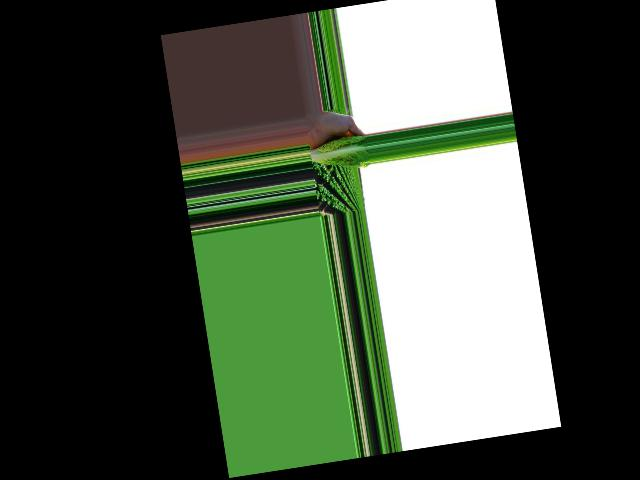lettuce: (307, 134, 369, 173)
